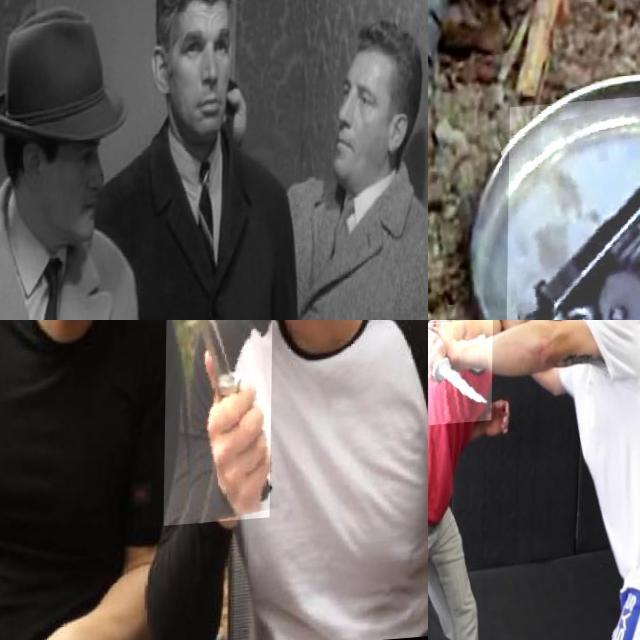-: (165, 320, 275, 530), (428, 323, 493, 430)
gun-knife-thesis - v11 Yolov5 augmented: (506, 95, 640, 320)
